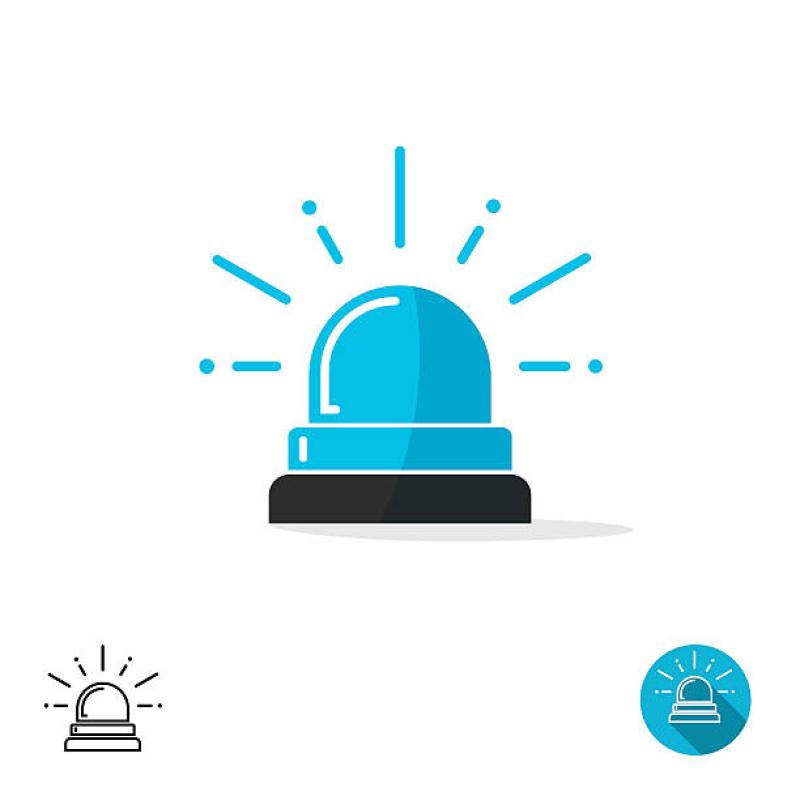AmbulanceSiren: (243, 226, 555, 572)
